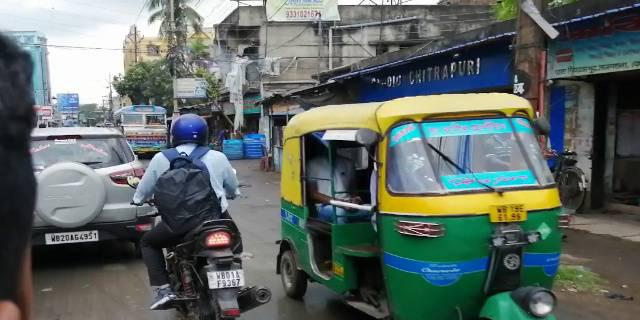Autorickshaw: (274, 101, 570, 315)
Bus: (111, 103, 171, 158)
Car: (24, 121, 161, 257)
Motorbike: (145, 119, 273, 313)
